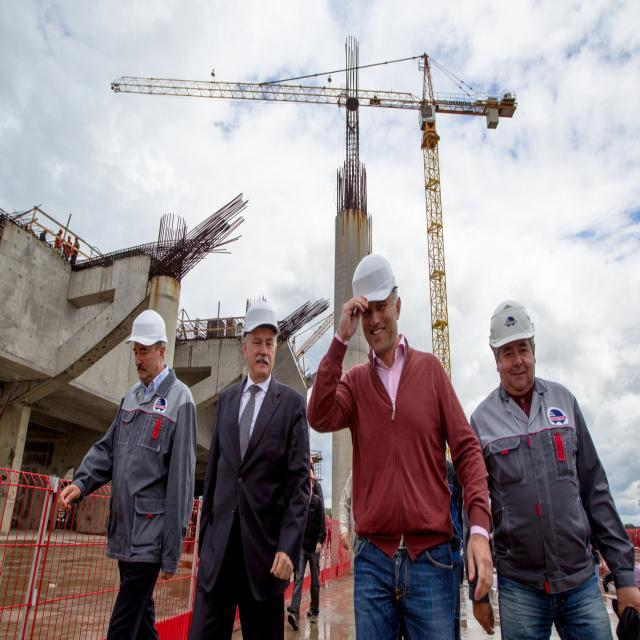Helmet: (353, 254, 401, 318), (490, 299, 539, 357), (128, 310, 170, 354), (242, 305, 282, 345)
NoJacket: (360, 336, 438, 541), (221, 375, 291, 573), (498, 386, 569, 576), (117, 373, 177, 550)
